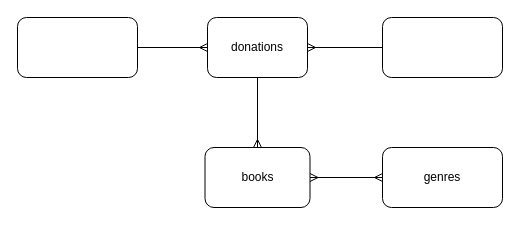
The diagram is 520 pixels wide and 225 high, and some of its shapes have lost their labels. Here are the shapes that lost their labels. From the top down, the centre of each, then its label:
[77,47]: users
[442,47]: schools/communities
